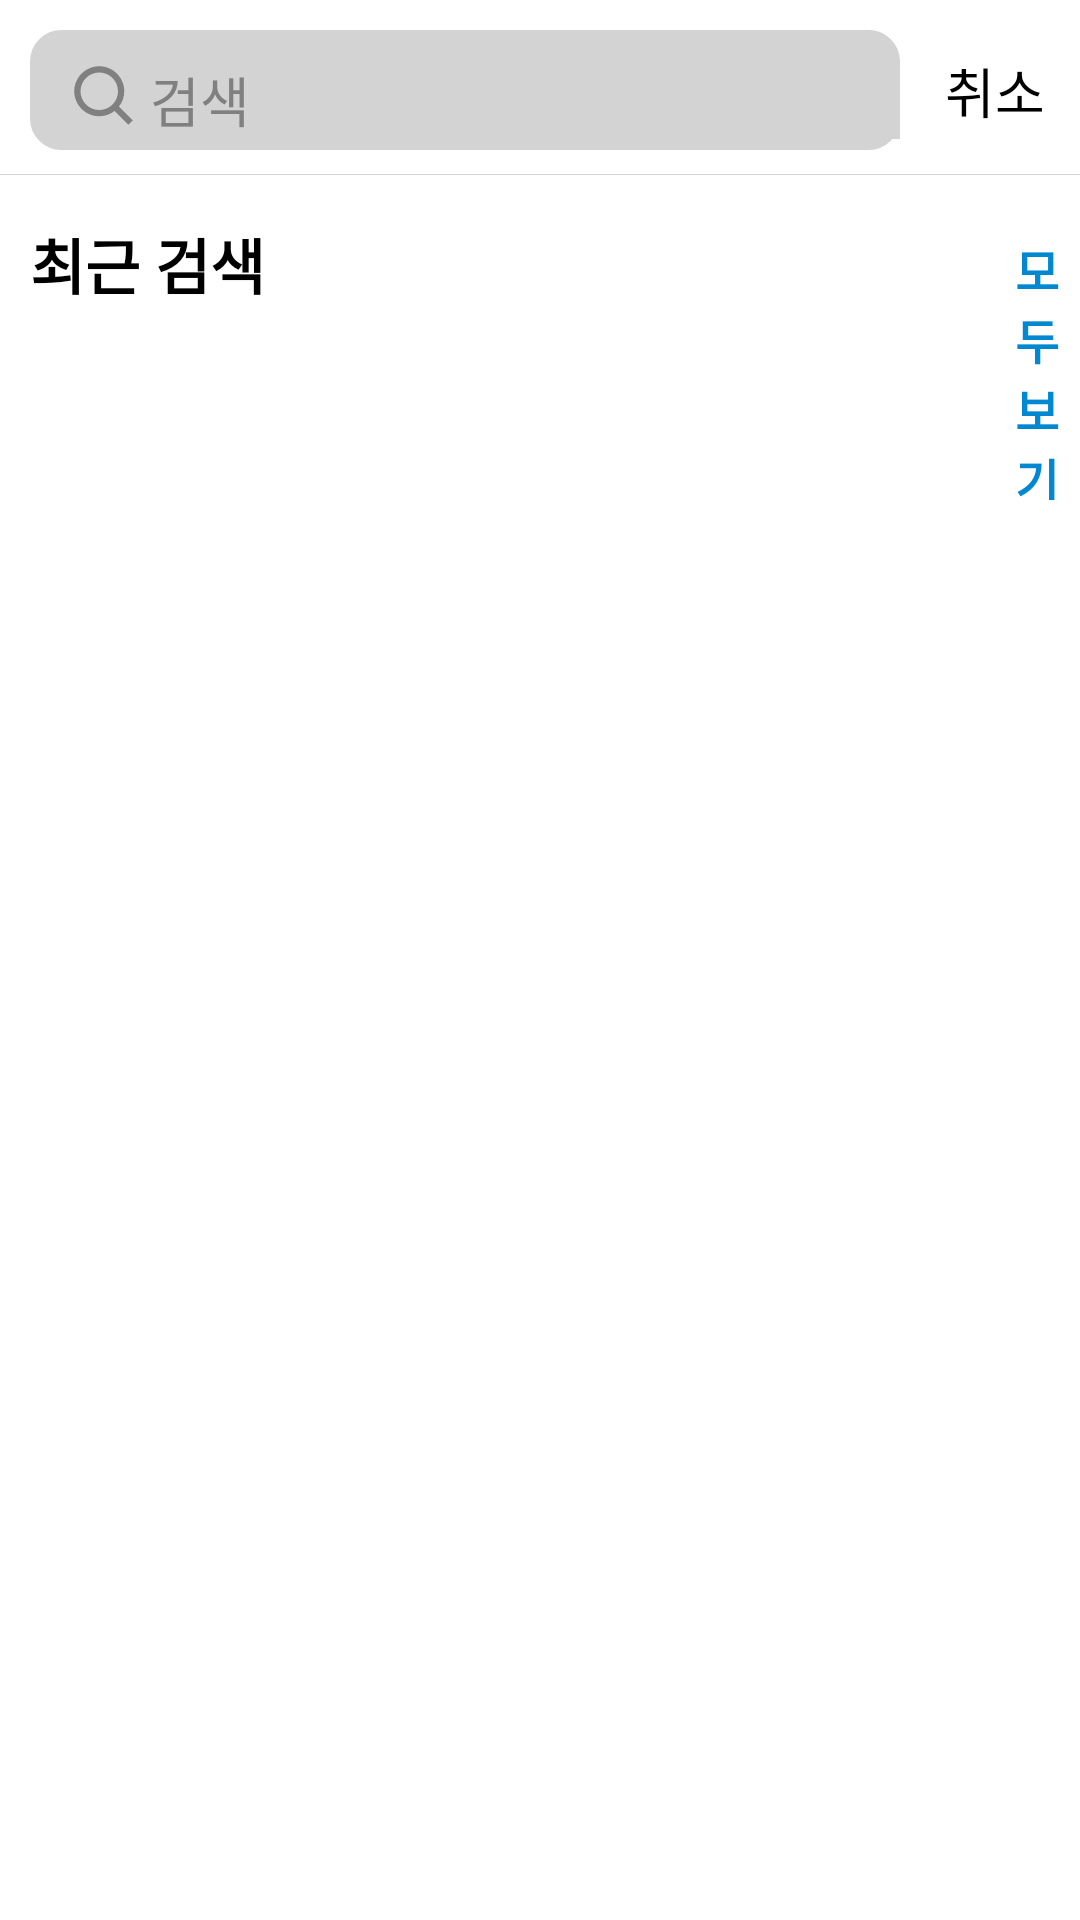

Icon bounding boxes for this 1080 × 1920 phone screenshot, format (x1, y1, x2, y2):
search bar: (74, 66, 133, 125)
